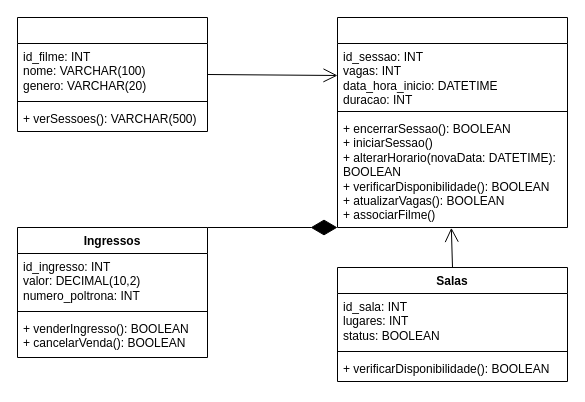
Some shapes in this 585 by 402 pixel diagram are drawn without their labels. Each missing label, with the box of its shape:
Filmes: (16, 16, 208, 132)
Sessões: (336, 16, 568, 228)
